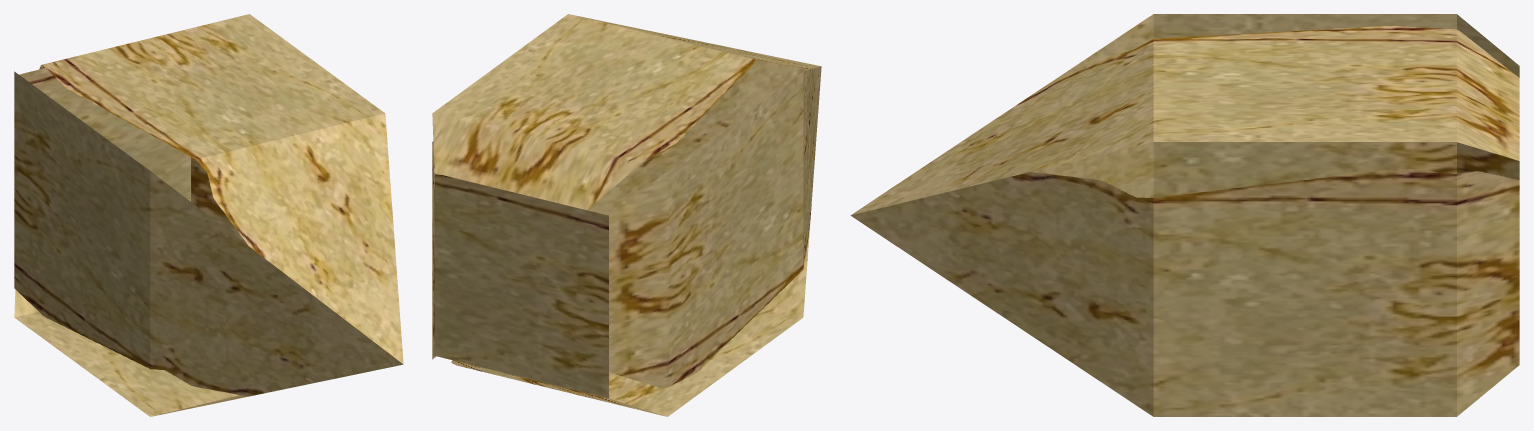
Rendered from bullet_3.fbx.
3 renders of one model, left to right at view 1: azimuth 30°, elevation 25°; view 2: azimuth 150°, elevation 25°; view 3: azimuth 270°, elevation 25°, orthographic. The views are drawn at different scales.
Visible parts, largest first — view 1: bullet_3; view 2: bullet_3; view 3: bullet_3.
Part boxes in pixels (bbox=[...]): bullet_3: bbox=[14, 14, 403, 416]; bullet_3: bbox=[432, 14, 821, 416]; bullet_3: bbox=[850, 14, 1519, 416].
Bounding box in the file's own units: 47.14 × 47.14 × 104.
